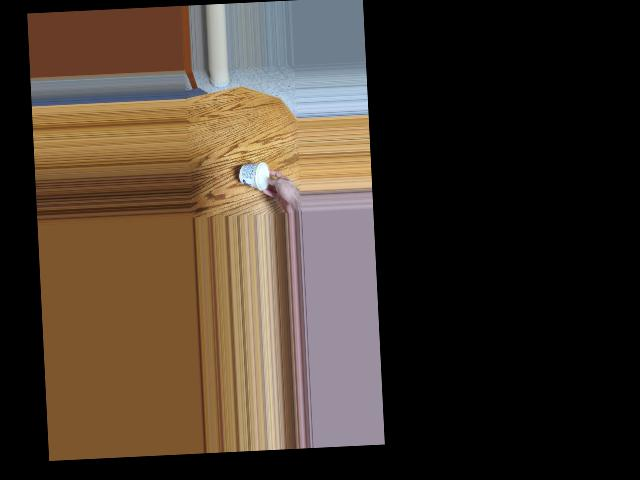cotage: (234, 156, 267, 187)
